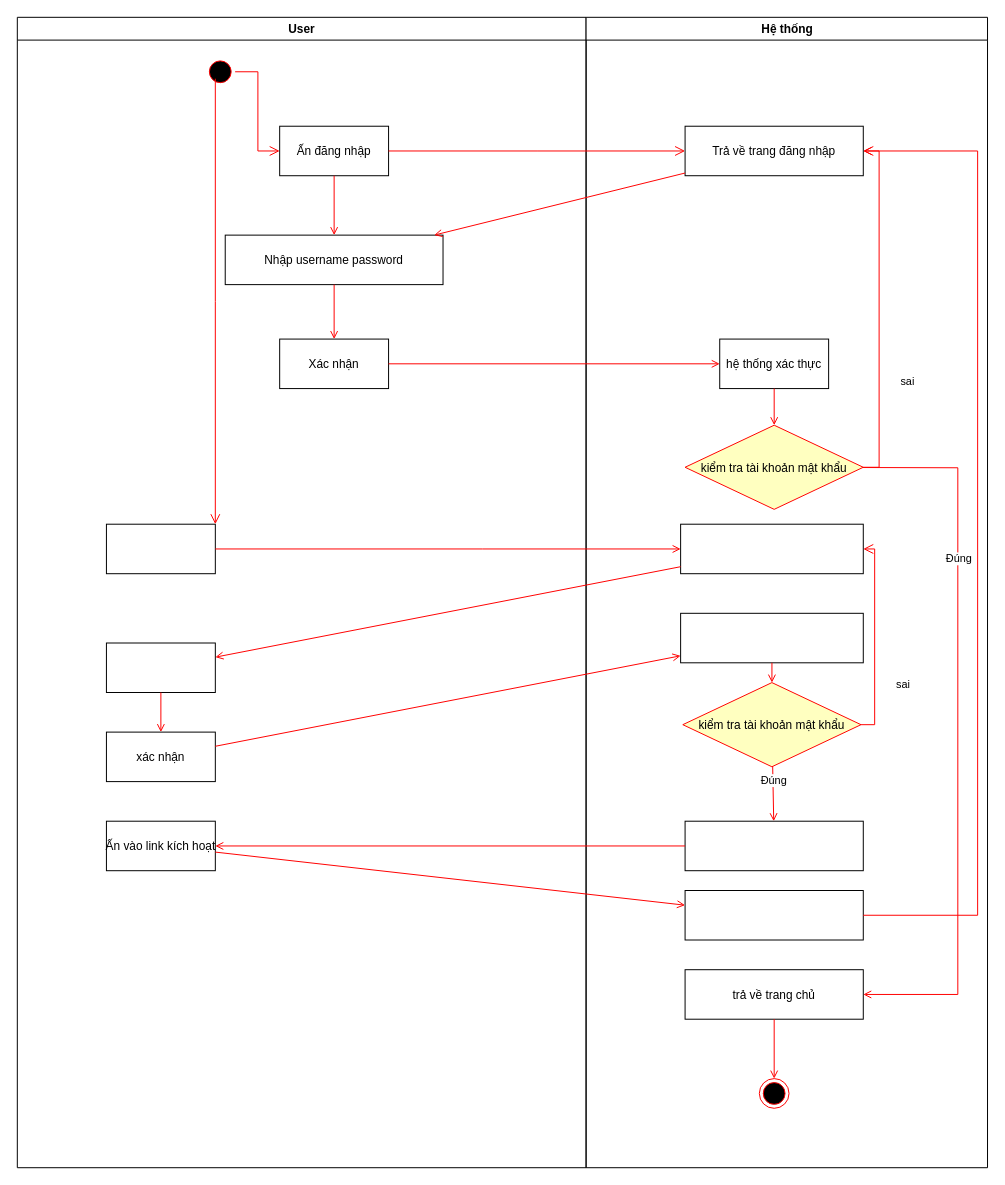
Some shapes in this 1005 by 1185 pixel diagram are drawn without their labels. The centre of each missing label's shape, as x and y in pixels:
"Gửi mail link kích hoạt" goes at [773,845].
"Kiểm tra thống tin đăng ký" goes at [771,637].
"Kích hoạt tài khoản" goes at [773,915].
"Nhập đầy đủ thông tin" goes at [160,667].
"Trả về trang đăng ký" goes at [771,548].
"Ấn đăng ký" goes at [160,548].
